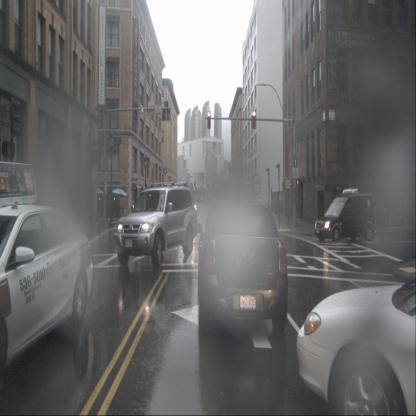vehicle-car: (0, 205, 93, 386), (296, 278, 416, 416), (198, 201, 288, 333), (114, 188, 197, 268), (315, 192, 376, 243)
